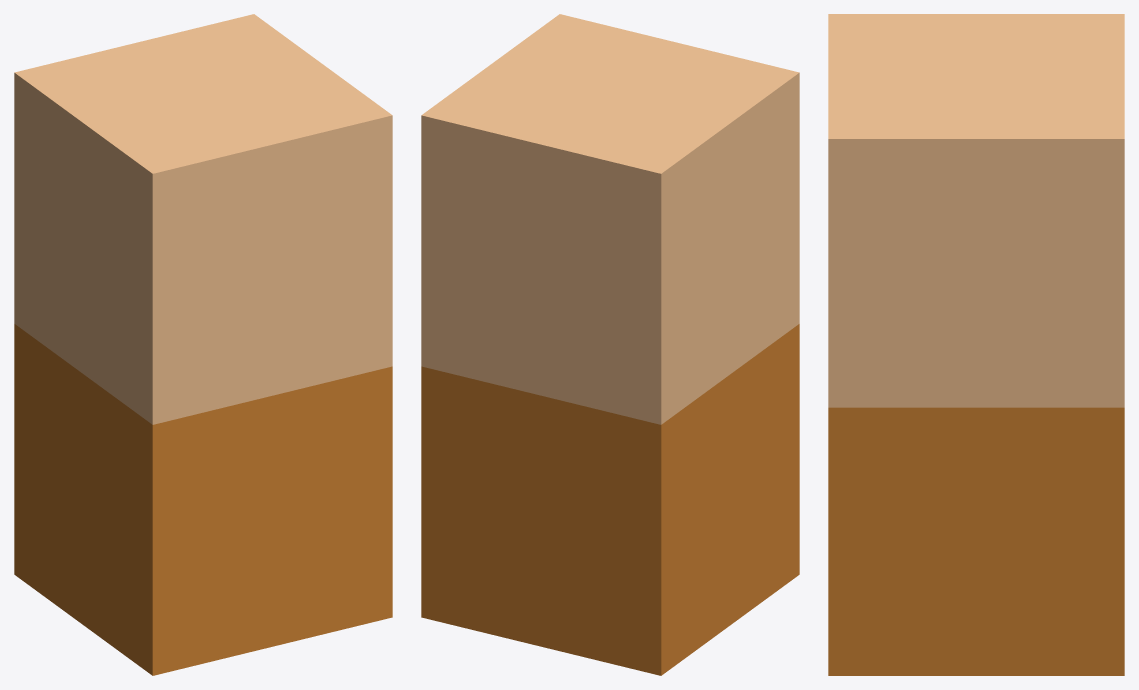
File: PlayerFoxLLeg.obj
3 views of the same model, side by side, from view 1: azimuth 30°, elevation 25°; view 2: azimuth 150°, elevation 25°; view 3: azimuth 270°, elevation 25° (orthographic). The views are drawn at different scales.
Bounding box in the file's own units: 0.1 × 0.2 × 0.1.
Materials: 1 (1 with a texture image).
